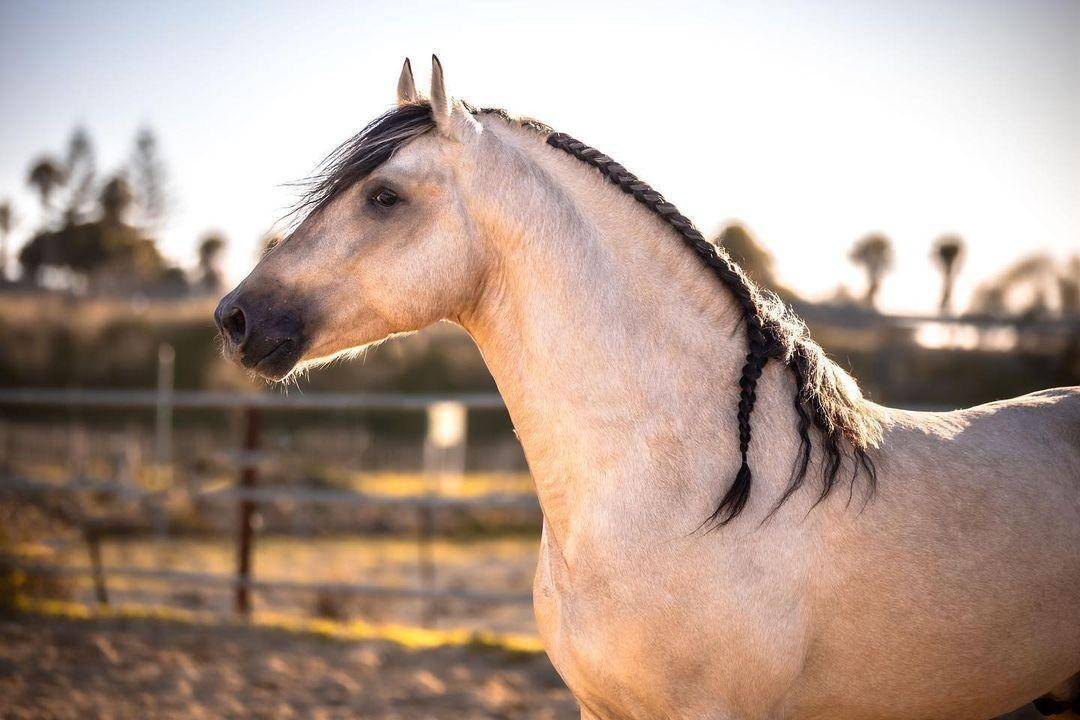horse: (212, 52, 1079, 719)
